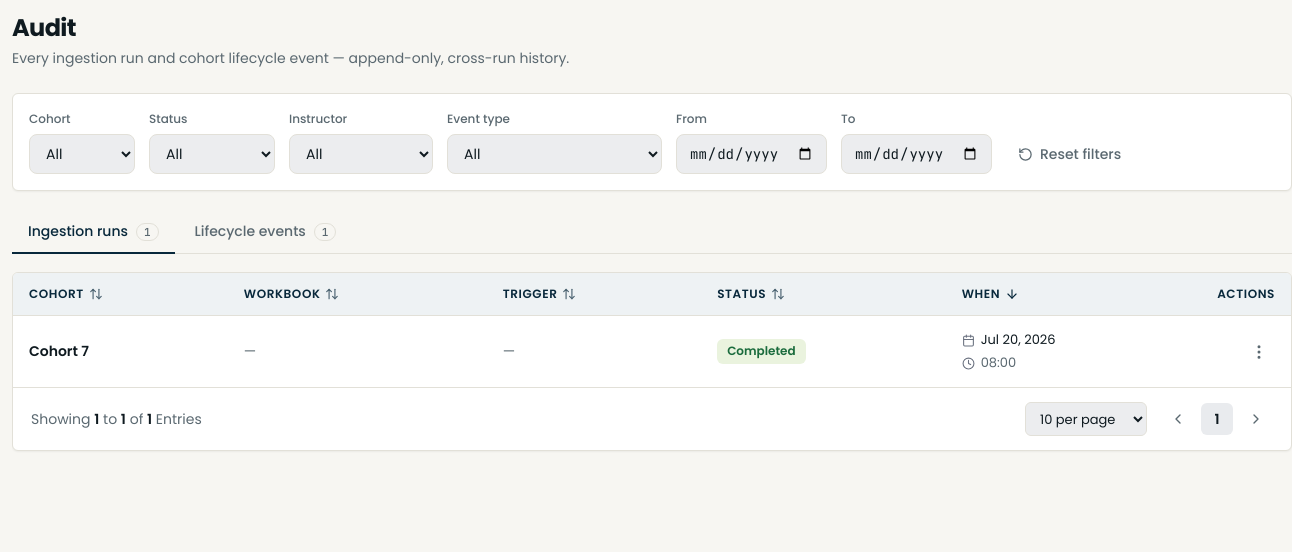
Test case: AuditView › shows a run's SharePoint version as a clean 'v89', not the raw cTag, in the expanded row detail
The image size is (1292, 552).
What coordinates should you click on to do the following:
click the row with class "row-click"
I would click on:
 (652, 351)
Its box is [13,316,1291,387].
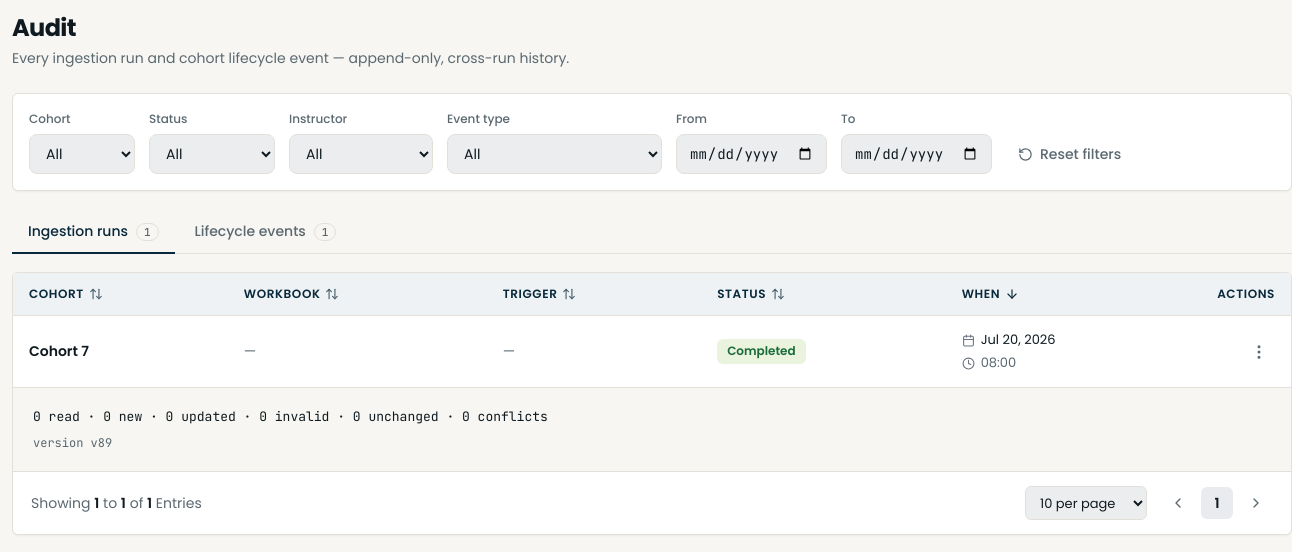
Check: the text "v89" is shown, box [33,435,112,451]
